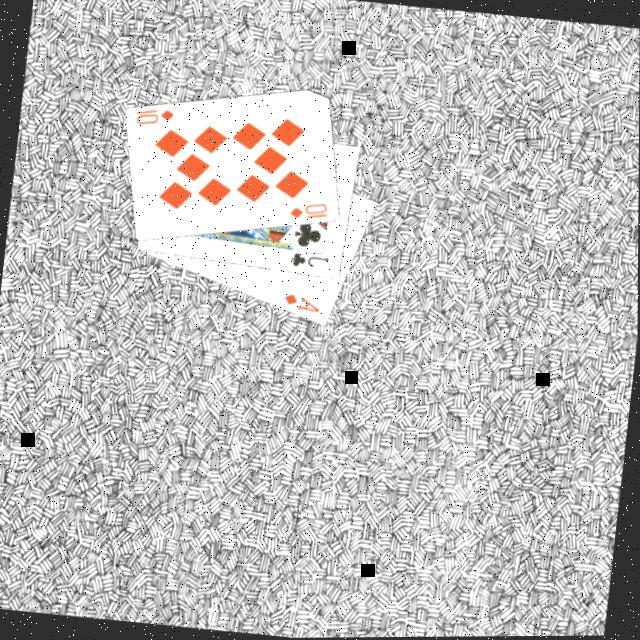10D: (132, 100, 179, 129), (287, 195, 333, 223)
AD: (281, 288, 325, 314)
JC: (288, 247, 334, 271)
